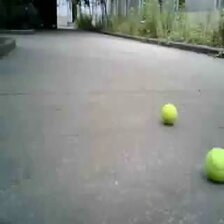tennis: (203, 145, 224, 182), (161, 104, 176, 122)
